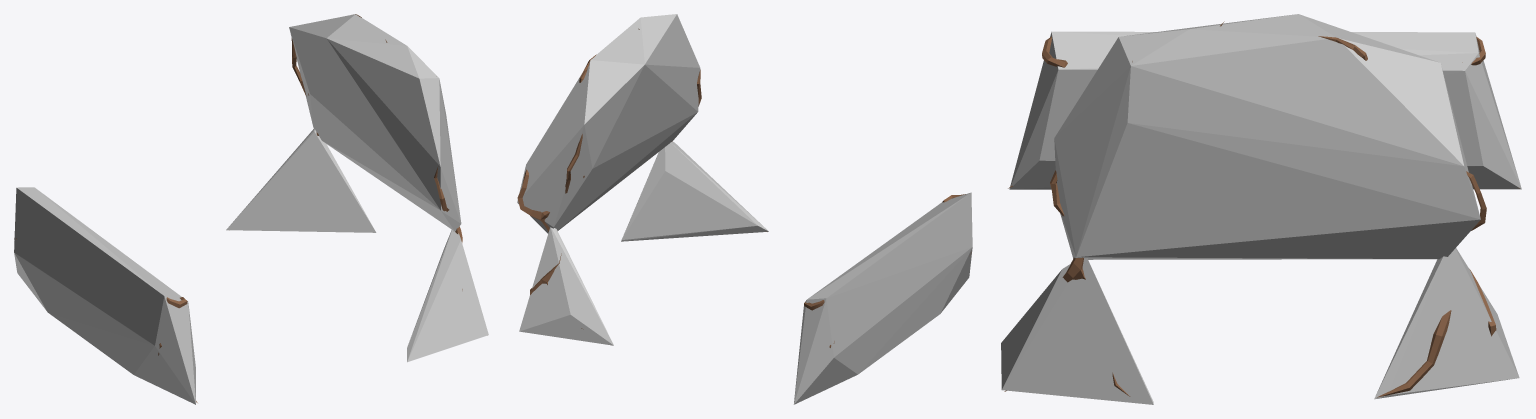
Rendered from SM_Prop_Bed_Branches_01.fbx.
The picture shows the model from 3 angles, left to right: view 1: azimuth 30°, elevation 25°; view 2: azimuth 150°, elevation 25°; view 3: azimuth 270°, elevation 25°; orthographic projection. The views are drawn at different scales.
Visible parts, largest first — view 1: SM_Prop_Bed_Branches_01_ConvexHulls, SM_Prop_Bed_Branches_01; view 2: SM_Prop_Bed_Branches_01_ConvexHulls, SM_Prop_Bed_Branches_01; view 3: SM_Prop_Bed_Branches_01_ConvexHulls, SM_Prop_Bed_Branches_01.
Part boxes in pixels (<box>): SM_Prop_Bed_Branches_01_ConvexHulls: <box>14,14,488,404</box>; SM_Prop_Bed_Branches_01: <box>14,14,462,402</box>; SM_Prop_Bed_Branches_01_ConvexHulls: <box>517,14,972,404</box>; SM_Prop_Bed_Branches_01: <box>517,28,971,347</box>; SM_Prop_Bed_Branches_01_ConvexHulls: <box>1001,14,1521,404</box>; SM_Prop_Bed_Branches_01: <box>1004,21,1519,397</box>.
Bounding box in the file's own units: 268 × 256 × 196.
2 materials, 1 textured.
